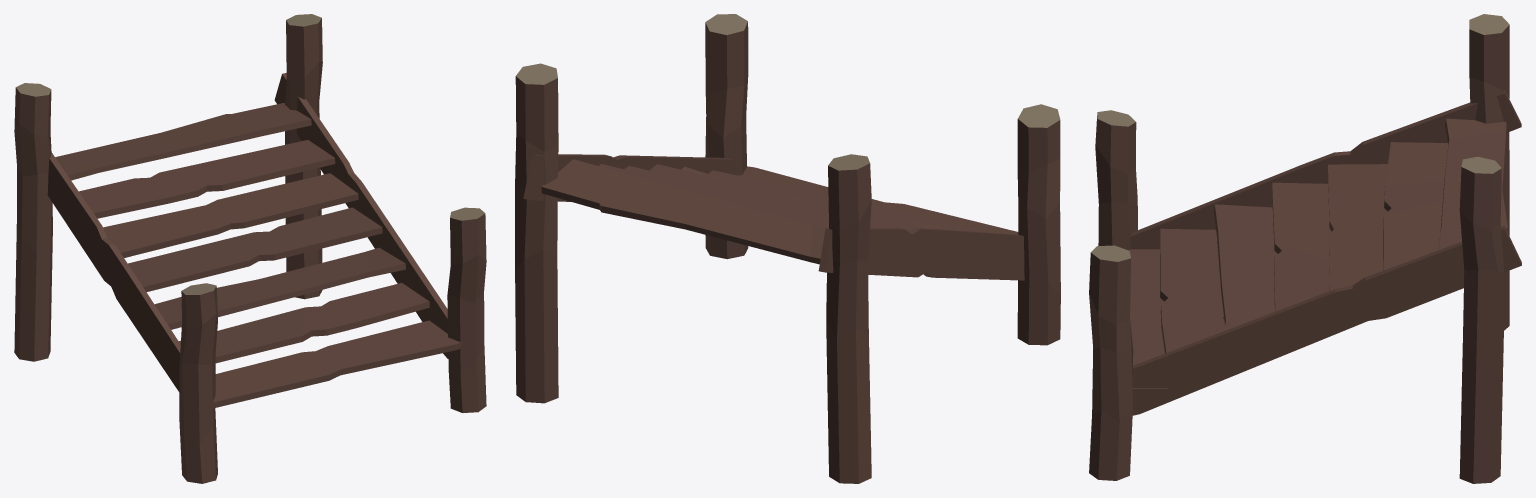
File: dock_stairs.glb
3 renders of one model, left to right at view 1: azimuth 30°, elevation 25°; view 2: azimuth 150°, elevation 25°; view 3: azimuth 270°, elevation 25°, orthographic. The views are drawn at different scales.
Visible parts, largest first — view 1: dock_stairs; view 2: dock_stairs; view 3: dock_stairs.
Part boxes in pixels (x1,y1,x2,y2): dock_stairs: (14,14,486,483); dock_stairs: (515,14,1060,483); dock_stairs: (1089,14,1521,483).
Bounding box in the file's own units: 1.84 × 1.61 × 2.
